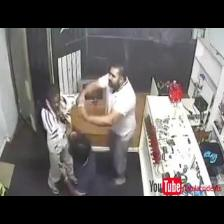person: (77, 64, 135, 184), (41, 85, 76, 194), (69, 133, 114, 195)
